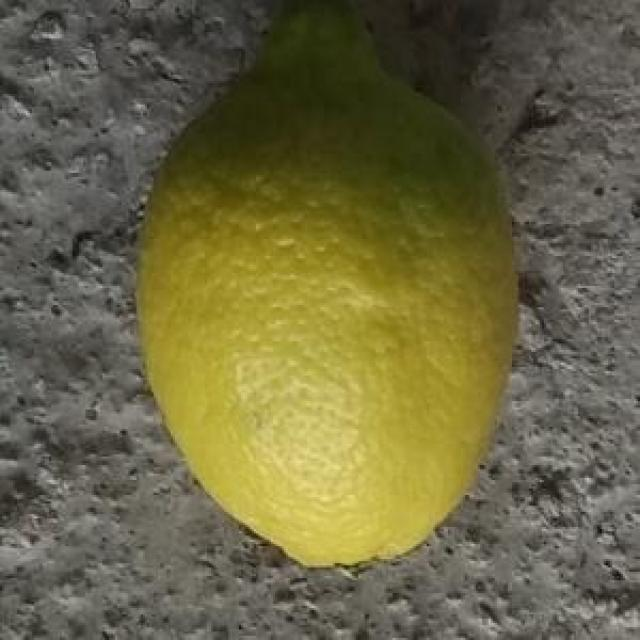lemon: (133, 1, 522, 566)
